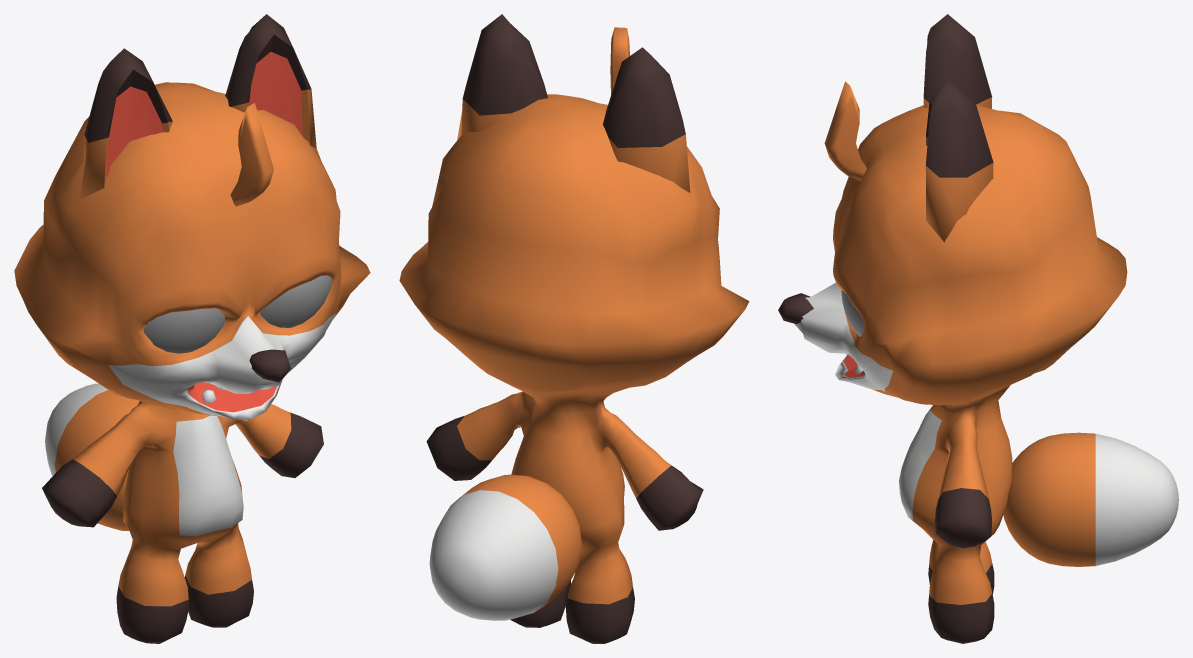
File: PipSFab01.fbx
3 views of the same model, side by side, from view 1: azimuth 30°, elevation 25°; view 2: azimuth 150°, elevation 25°; view 3: azimuth 270°, elevation 25° (orthographic). The views are drawn at different scales.
Parts seen in each view (by area): view 1: BodyMesh, polySurface15, polySurface13, polySurface21, BaseRig:EyeMesh_R, polySurface16, BaseRig:EyeMesh_L, polySurface14; view 2: BodyMesh, polySurface21, polySurface15, polySurface13, polySurface16; view 3: BodyMesh, polySurface21, polySurface13, polySurface15, polySurface16, polySurface14.
Boxes of the visible parts, left/top/right/bottom form: BodyMesh: left=14, top=82, right=370, bottom=643; polySurface15: left=79, top=48, right=172, bottom=199; polySurface13: left=225, top=14, right=316, bottom=149; polySurface21: left=45, top=383, right=139, bottom=530; BaseRig:EyeMesh_R: left=143, top=308, right=224, bottom=353; polySurface16: left=230, top=103, right=273, bottom=206; BaseRig:EyeMesh_L: left=260, top=275, right=331, bottom=327; polySurface14: left=249, top=349, right=290, bottom=382; BodyMesh: left=399, top=94, right=749, bottom=643; polySurface21: left=429, top=474, right=581, bottom=620; polySurface15: left=603, top=47, right=690, bottom=192; polySurface13: left=457, top=14, right=547, bottom=140; polySurface16: left=610, top=27, right=629, bottom=94; BodyMesh: left=794, top=105, right=1127, bottom=643; polySurface21: left=1003, top=432, right=1178, bottom=566; polySurface13: left=925, top=81, right=993, bottom=242; polySurface15: left=923, top=14, right=992, bottom=108; polySurface16: left=824, top=81, right=866, bottom=180; polySurface14: left=778, top=293, right=813, bottom=323.
Size of the model in its own units: 4.94 by 9.18 by 5.76.
